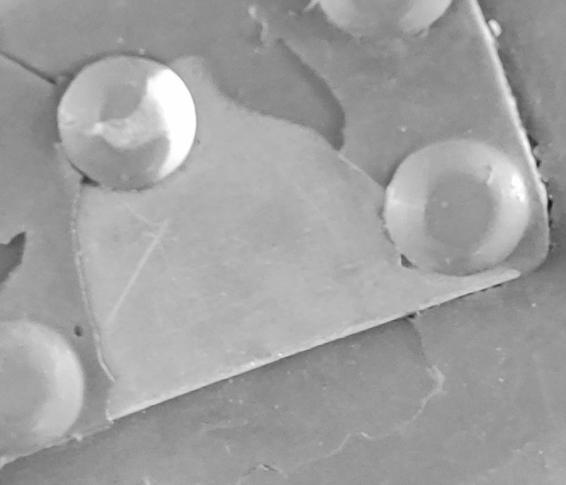paint-off: (1, 1, 566, 485)
